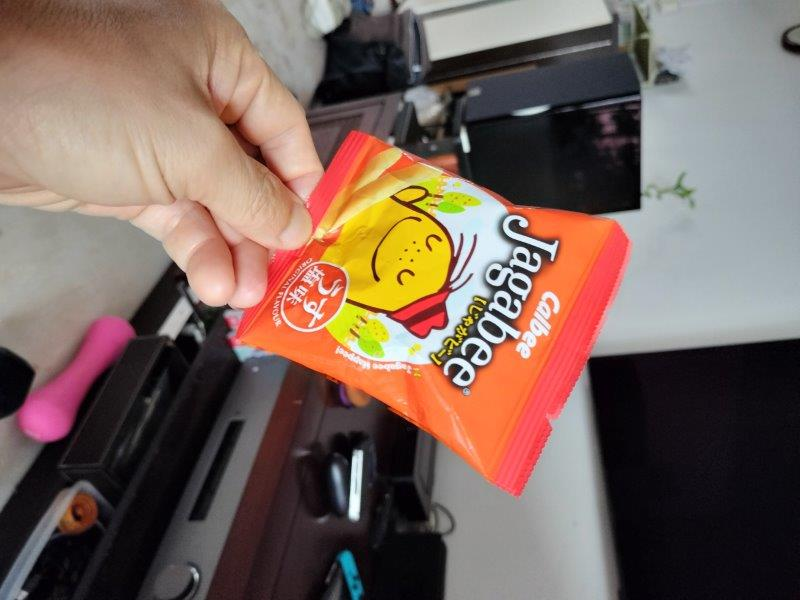Jagabee: (240, 136, 626, 494)
